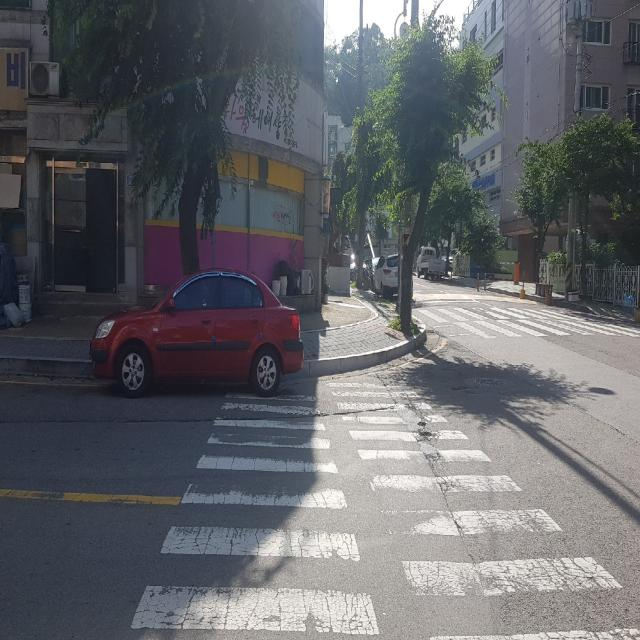횡단보도: (130, 381, 640, 640), (421, 298, 636, 345)
